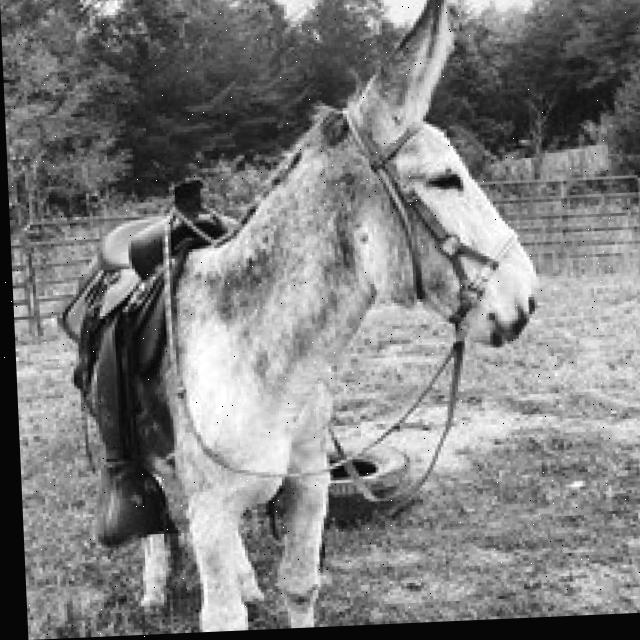Donkey: (51, 0, 554, 635)
